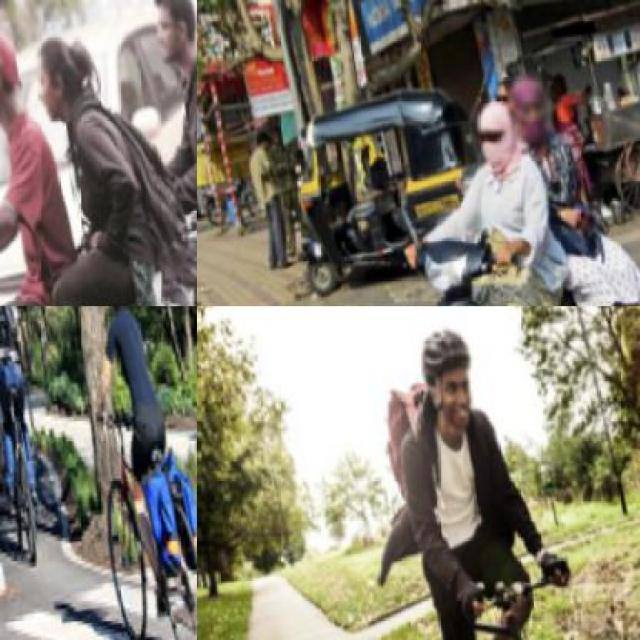With Helmet: (412, 315, 485, 443)
Without Helmet: (29, 34, 93, 123), (502, 73, 556, 149), (467, 99, 524, 170), (142, 0, 195, 72), (0, 6, 25, 126)
